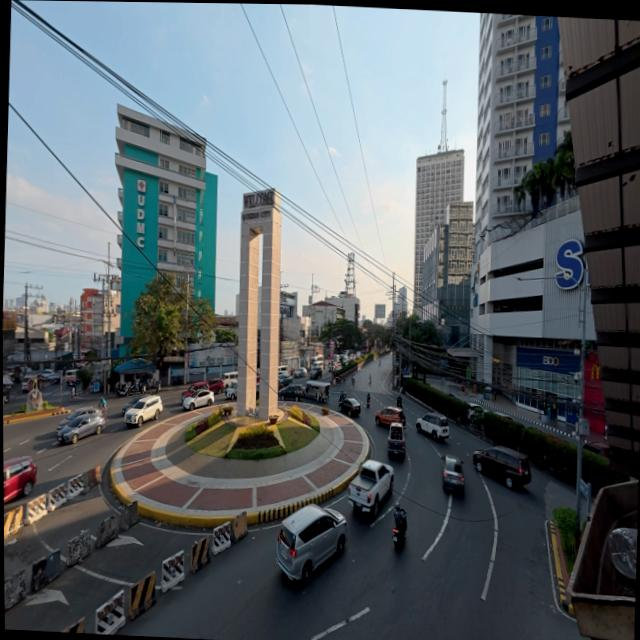Jeepneys: (305, 382, 329, 402)
car: (276, 505, 347, 583), (473, 447, 531, 489), (3, 456, 37, 503), (57, 414, 104, 443), (125, 395, 163, 426), (56, 406, 99, 431), (416, 412, 449, 440), (442, 456, 464, 492), (184, 390, 214, 410), (375, 407, 405, 426), (181, 382, 208, 401), (278, 383, 304, 401), (122, 396, 144, 415), (340, 398, 361, 417), (583, 443, 609, 458), (468, 403, 487, 421), (208, 378, 224, 394), (22, 376, 37, 391), (225, 381, 237, 399), (494, 411, 514, 421), (278, 375, 293, 388), (47, 371, 62, 384), (309, 366, 322, 381), (294, 367, 307, 377), (41, 370, 53, 380), (278, 373, 289, 383), (3, 387, 10, 402), (278, 365, 288, 374), (347, 353, 355, 362), (279, 370, 289, 377), (342, 356, 347, 366), (355, 352, 361, 359), (3, 398, 4, 406)
motorcycle: (393, 528, 405, 550), (118, 384, 130, 398), (149, 378, 161, 392), (397, 395, 402, 407), (367, 395, 370, 408)
trucks: (348, 460, 393, 516), (387, 422, 405, 458)
vans: (223, 371, 238, 388), (65, 370, 78, 385), (278, 365, 288, 373)
